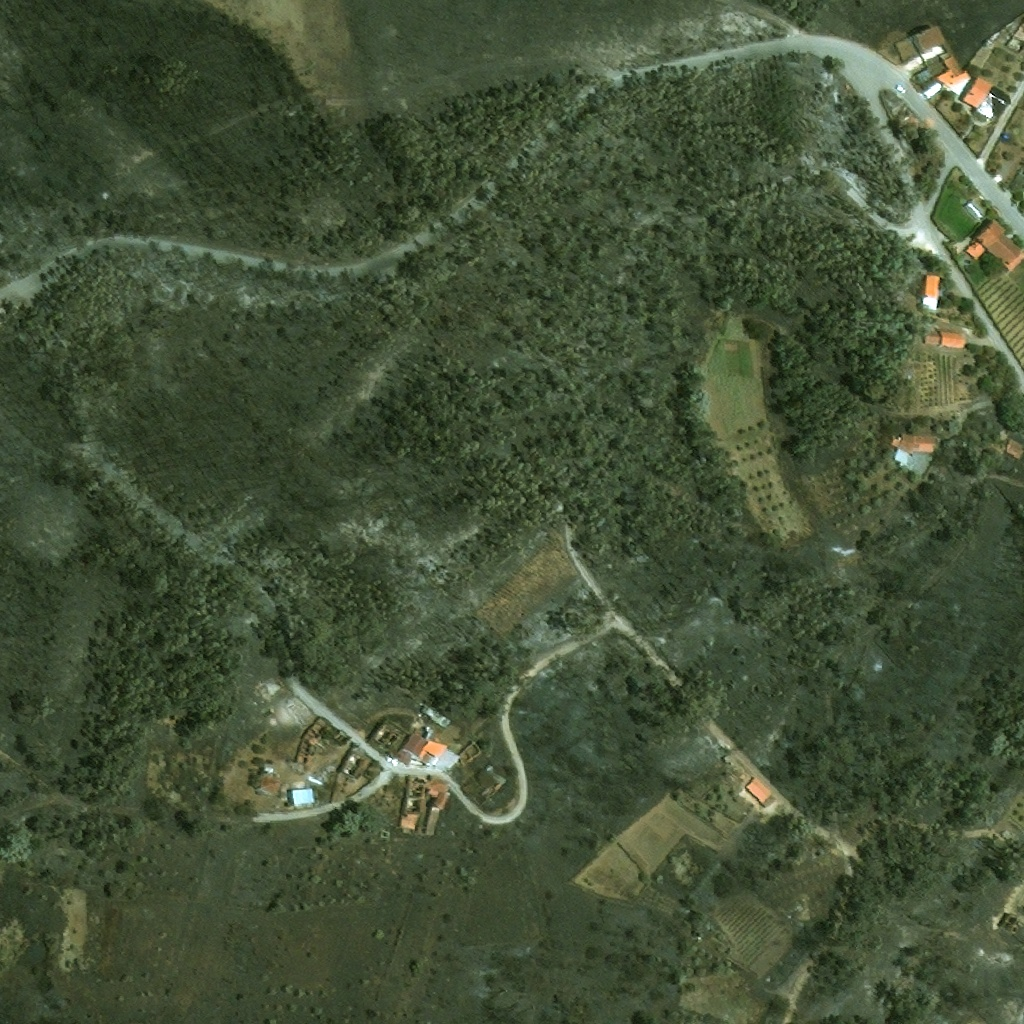0 no-damage: (964, 219, 1023, 271), (962, 75, 1012, 123), (934, 53, 972, 89), (889, 435, 934, 465), (396, 733, 428, 765), (745, 778, 774, 808), (416, 738, 448, 764), (911, 27, 941, 53), (924, 328, 964, 347), (923, 274, 941, 310), (435, 748, 461, 769), (261, 772, 283, 793), (1006, 438, 1022, 457)
2 major-damage: (425, 777, 452, 837)
3 destroyed: (295, 716, 331, 766), (399, 774, 427, 829), (371, 719, 407, 752), (341, 749, 371, 781), (481, 764, 507, 799), (419, 703, 449, 726), (1000, 912, 1023, 933), (335, 729, 351, 745)
4 un-classified: (1006, 20, 1023, 54)
